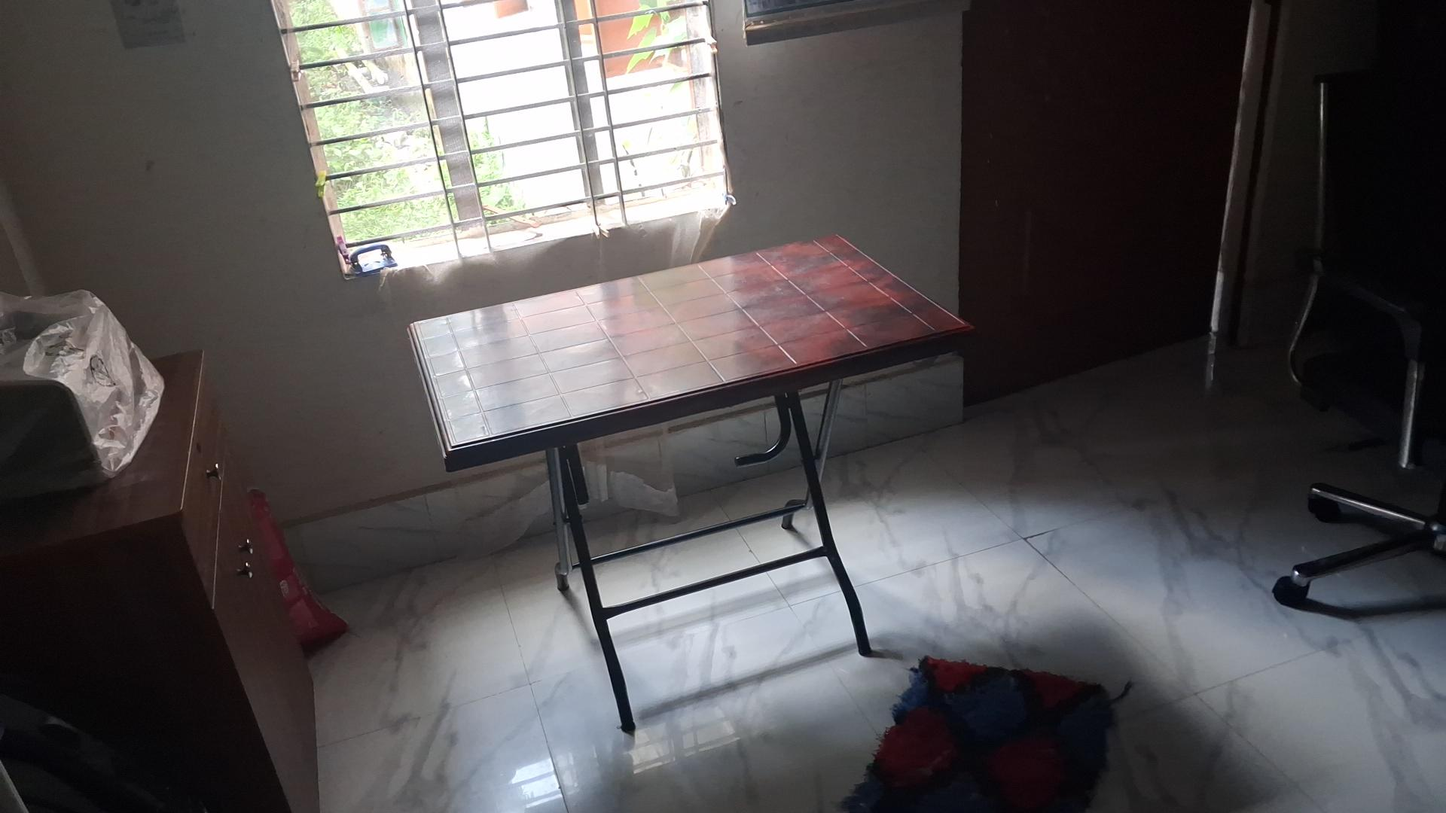Table: (410, 231, 976, 733)
Window: (269, 0, 736, 274)
